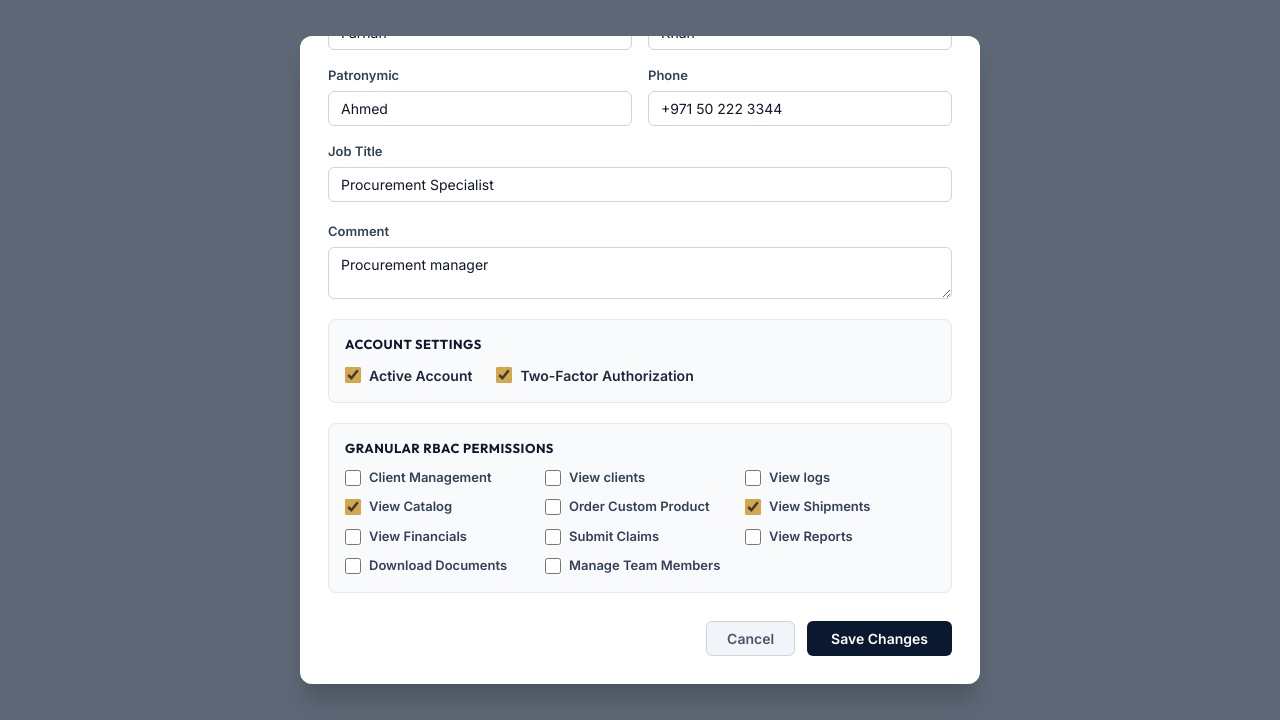
Members Components & Page (FEAT-1.4) › EditMemberModal Component › catches and displays error when updateMember throws
(page scrolled)
Step 1. Click the button "Save Changes" → {"x": 880, "y": 638}, box [807, 621, 952, 656]
(page scrolled)
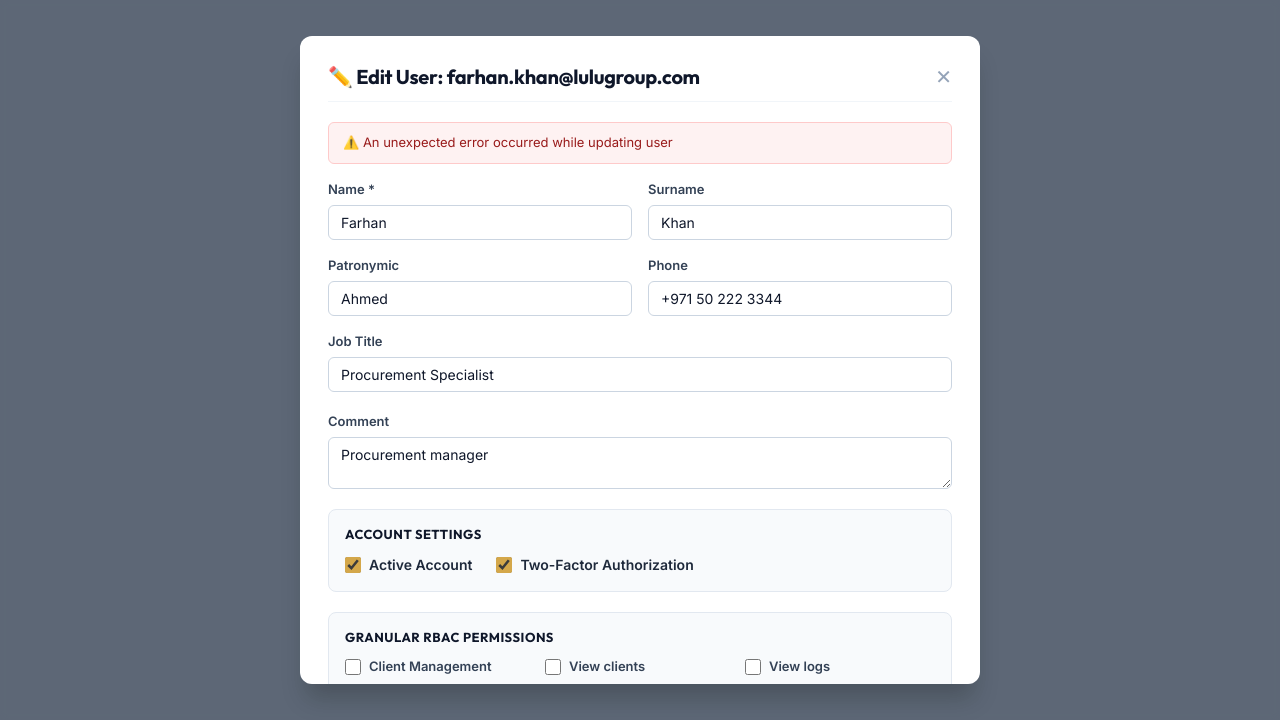
expect the text "⚠️ An unexpected error occurred while updating user" is shown: met, box [328, 122, 952, 164]
